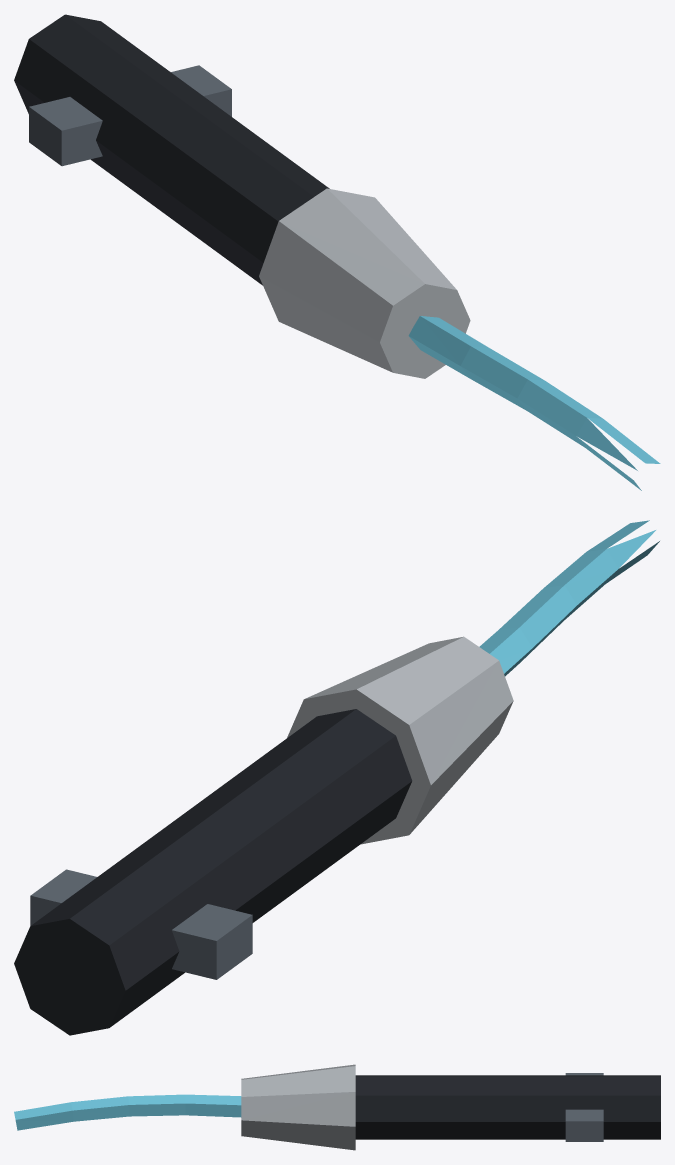
The model's file is electrowhip.lod.glb.
3 renders of one model, top to bottom at view 1: azimuth 30°, elevation 25°; view 2: azimuth 150°, elevation 25°; view 3: azimuth 270°, elevation 25°, orthographic. The views are drawn at different scales.
Visible parts, largest first — view 1: m; view 2: m; view 3: m.
Part boxes in pixels (x1,y1,x2,y2): m: [14, 14, 660, 490]; m: [14, 520, 659, 1035]; m: [14, 1064, 660, 1150].
Bounding box in the file's own units: 0.0266 × 0.0213 × 0.1505.
